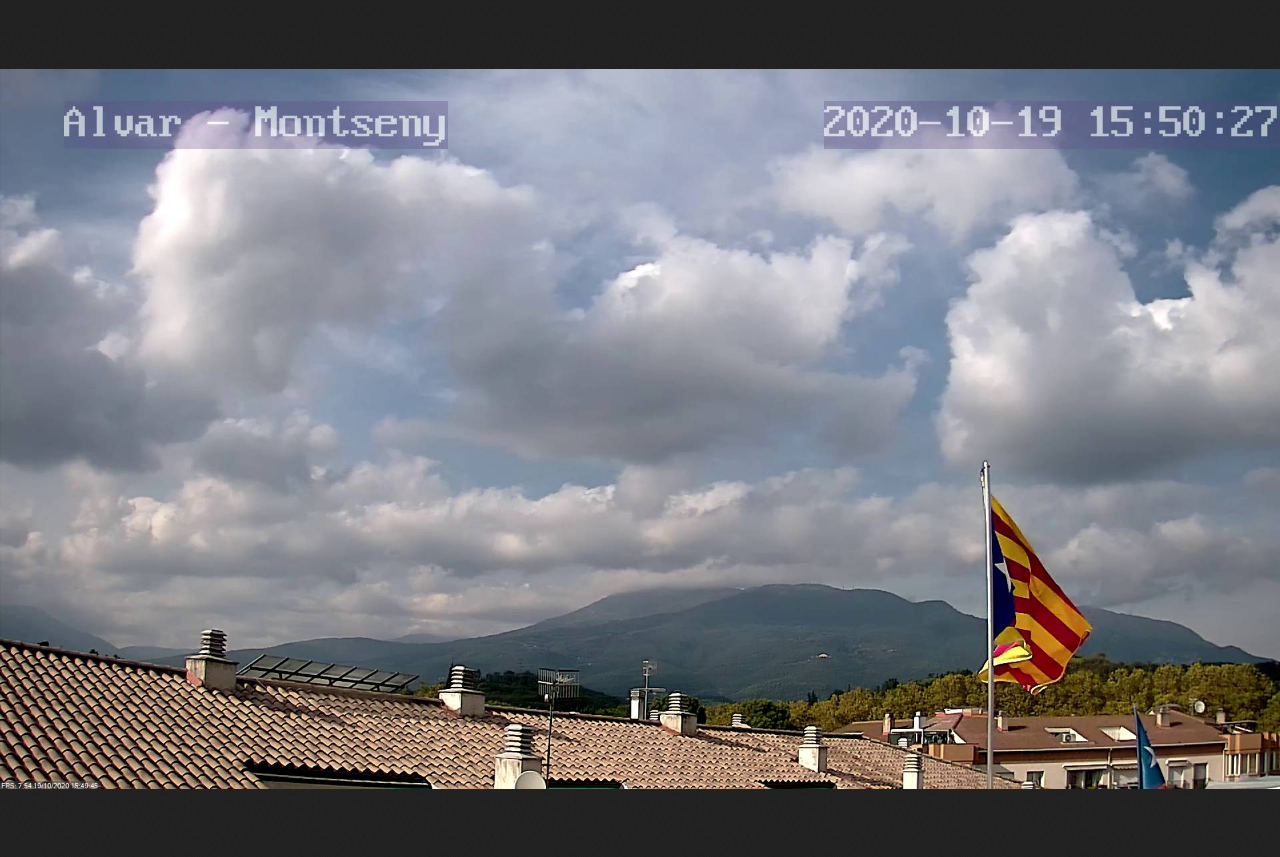maybe: (976, 490, 1088, 698)
